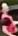red: (1, 0, 18, 36)
